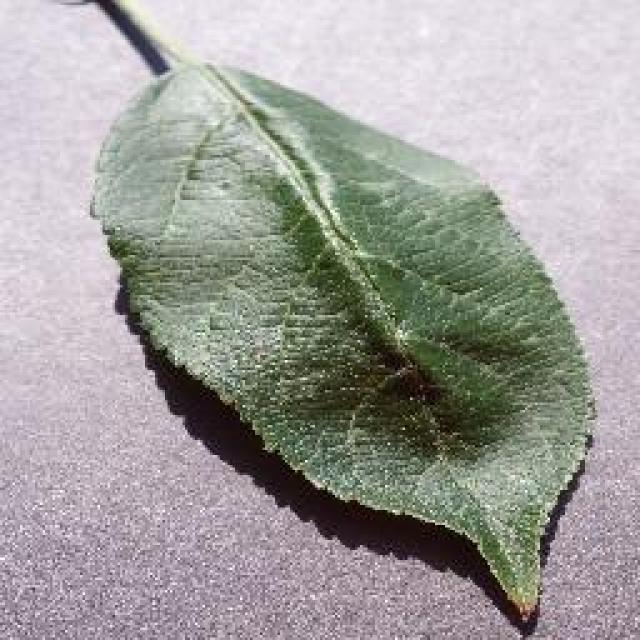apple healthy: (30, 0, 600, 625)
